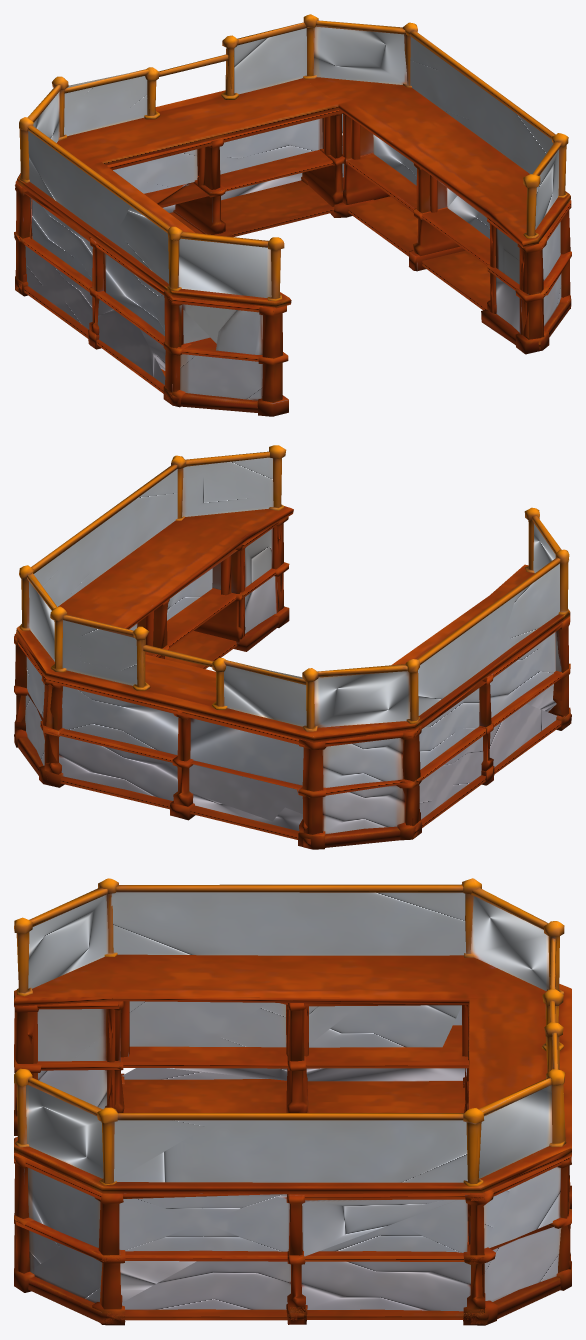
Rendered from counter_u.glb.
3 views of the same model, one above another, from view 1: azimuth 30°, elevation 25°; view 2: azimuth 150°, elevation 25°; view 3: azimuth 270°, elevation 25° (orthographic). The views are drawn at different scales.
Parts seen in each view (by area): view 1: geometry_0; view 2: geometry_0; view 3: geometry_0.
Boxes of the visible parts, x1=… form: geometry_0: x1=14, y1=14, x2=571, y2=416; geometry_0: x1=14, y1=445, x2=571, y2=849; geometry_0: x1=14, y1=878, x2=571, y2=1325.
Bounding box in the file's own units: 1 × 0.4238 × 1.
1 material, 1 textured.
